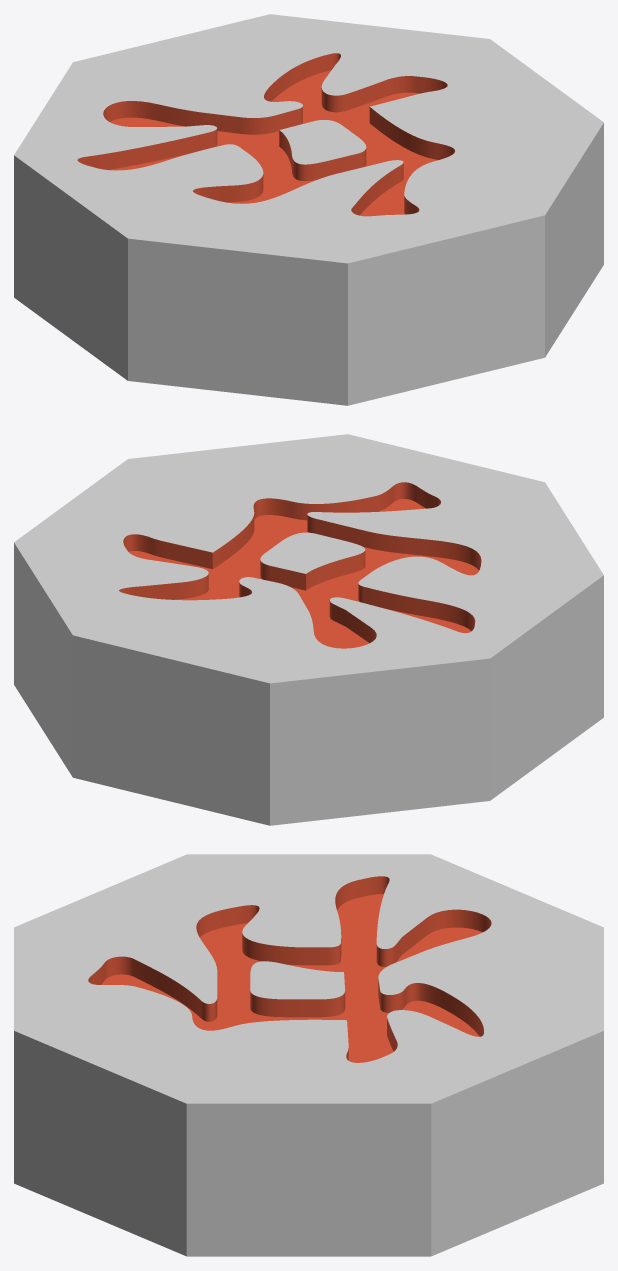
The picture shows the model from 3 angles, top to bottom: view 1: azimuth 30°, elevation 25°; view 2: azimuth 150°, elevation 25°; view 3: azimuth 270°, elevation 25°; orthographic projection. The views are drawn at different scales.
Visible parts, largest first — view 1: 한_병; view 2: 한_병; view 3: 한_병.
Boxes of the visible parts, x1,y1,x2,y2 form: 한_병: (14, 14, 603, 405); 한_병: (14, 434, 603, 825); 한_병: (14, 854, 603, 1256).
Size of the model in its own units: 2100 by 600 by 2100.
